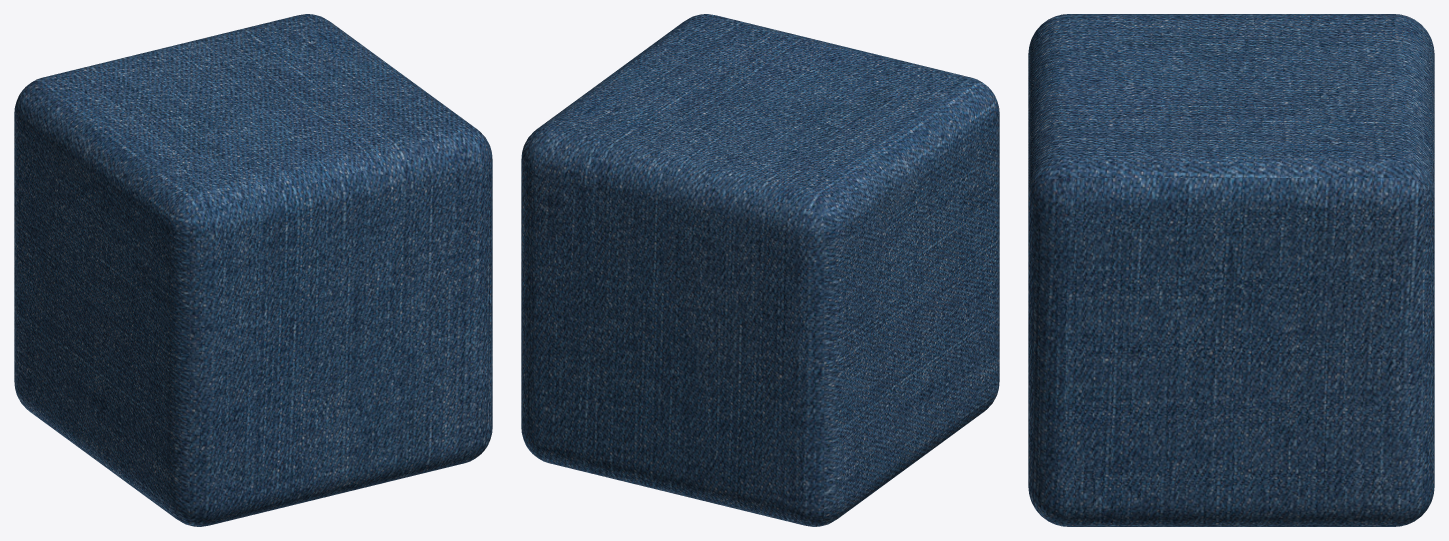
The model's file is MusicBox.fbx.
The picture shows the model from 3 angles, left to right: view 1: azimuth 30°, elevation 25°; view 2: azimuth 150°, elevation 25°; view 3: azimuth 270°, elevation 25°; orthographic projection. The views are drawn at different scales.
Parts seen in each view (by area): view 1: Roundcube.002; view 2: Roundcube.002; view 3: Roundcube.002.
Boxes of the visible parts, left/top/right/bottom form: Roundcube.002: left=14, top=14, right=492, bottom=526; Roundcube.002: left=521, top=14, right=999, bottom=526; Roundcube.002: left=1028, top=14, right=1434, bottom=526.
Bounding box in the file's own units: 200 × 200 × 200.
